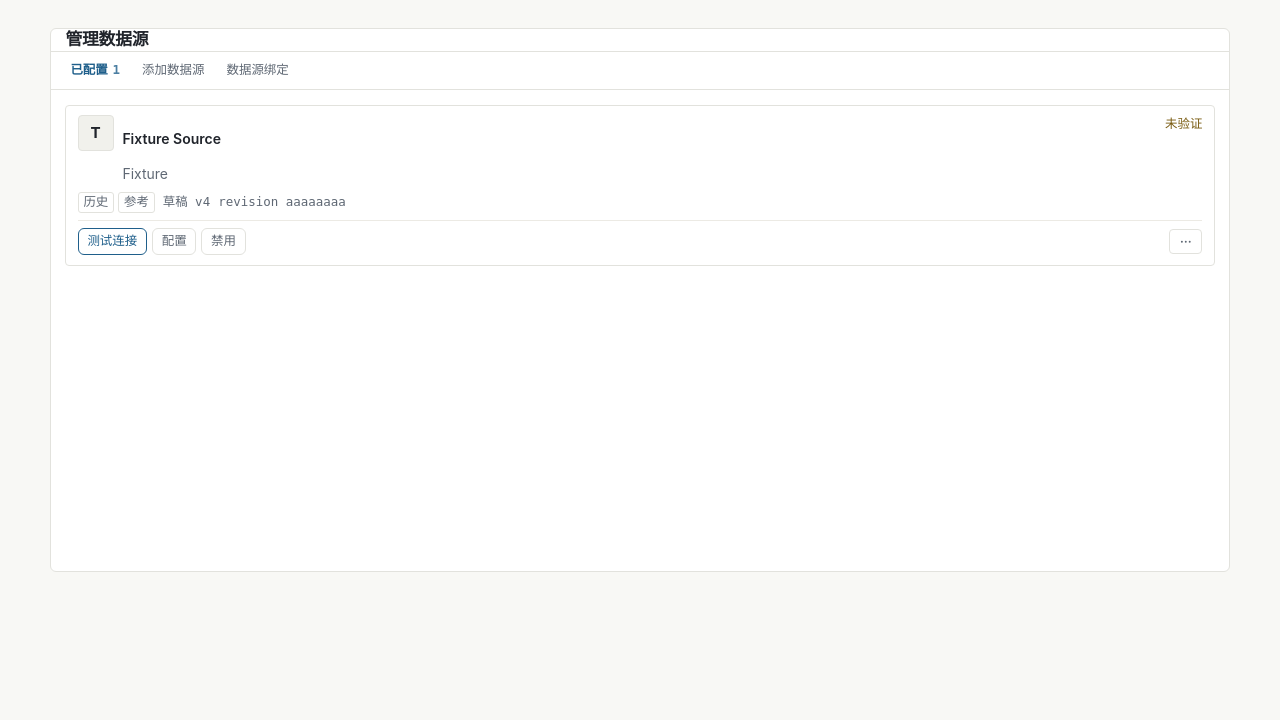
Test case: lists configured sources with status, capabilities and non-primary archive
The image size is (1280, 720).
Expected: the text "未验证" is shown, [1165,116,1202,131]
Expected: the text "历史" is shown, [78,192,114,213]
What coordinates should you click on to do the following:
click the button named "更多操作"
I would click on:
 (1186, 242)
Its box is [1169,229,1202,254].
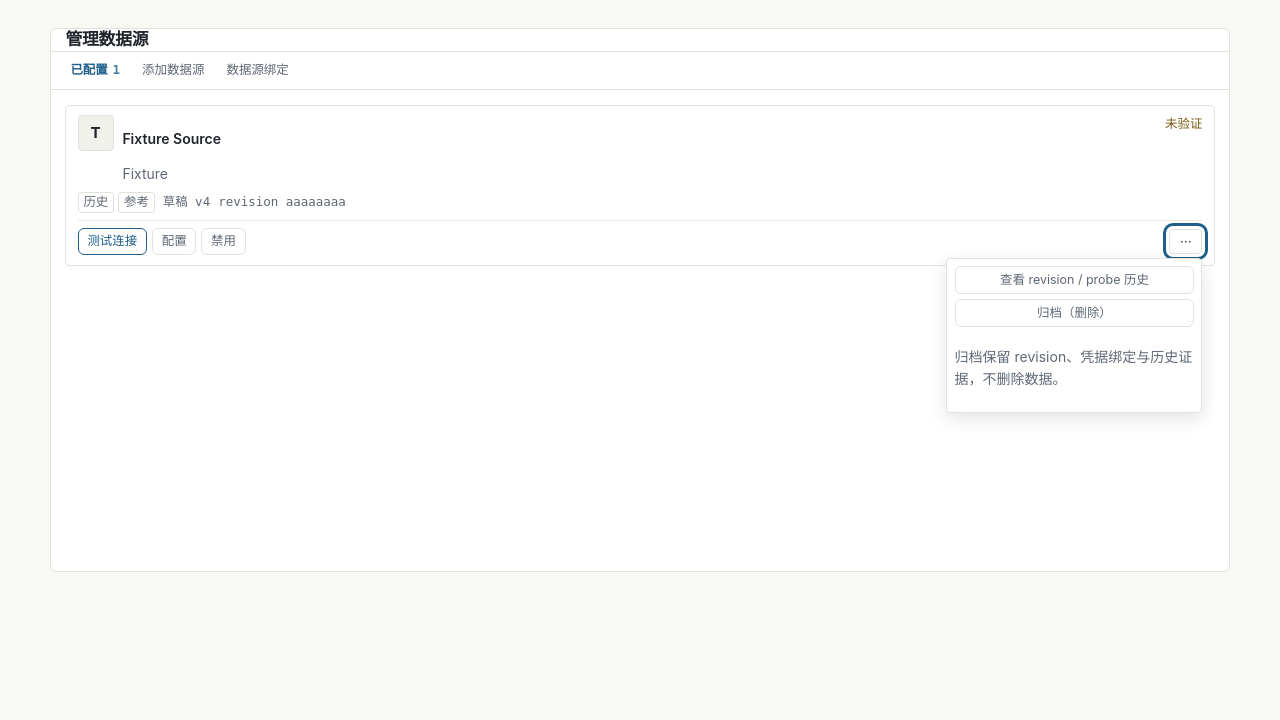
Now the button "归档（删除）" is shown, box [955,299,1194,327]
